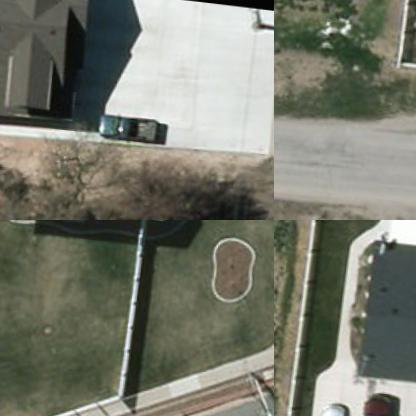pickup: (98, 111, 162, 147), (350, 392, 398, 415)
